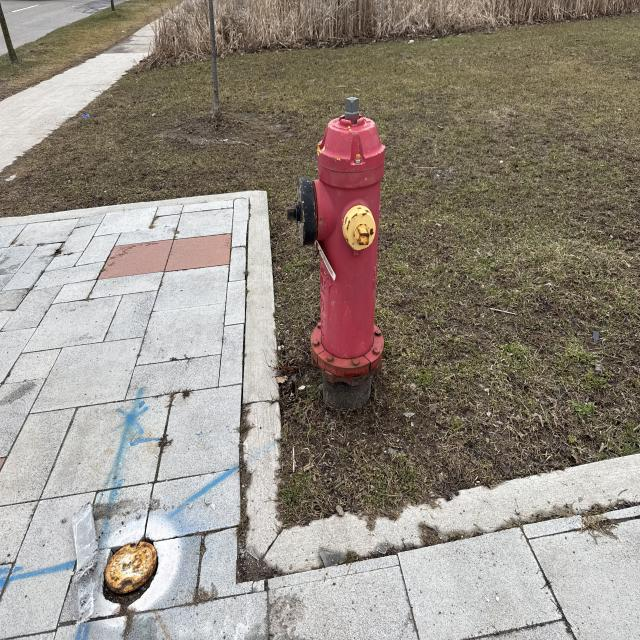Fire hydrant: (285, 96, 386, 388)
